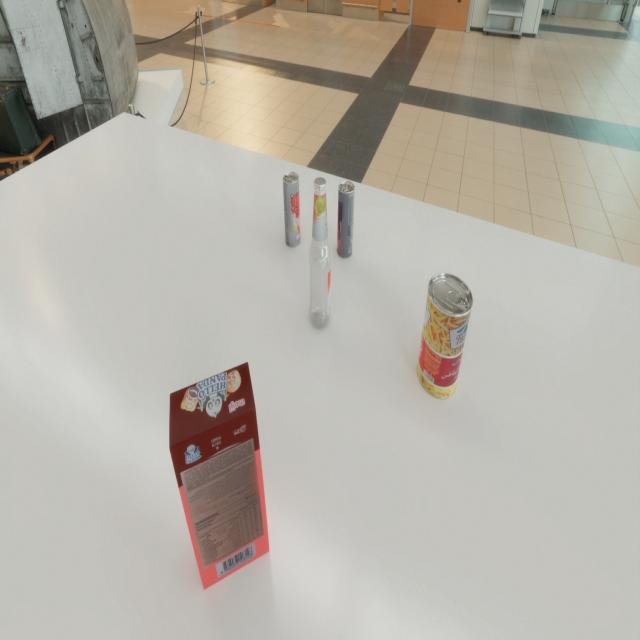Bottle: (308, 177, 332, 329)
HelloPanda: (169, 362, 270, 589)
Potato_sticks: (417, 273, 473, 399)
Rita_zero_sugar: (337, 181, 355, 259), (283, 172, 300, 248)
